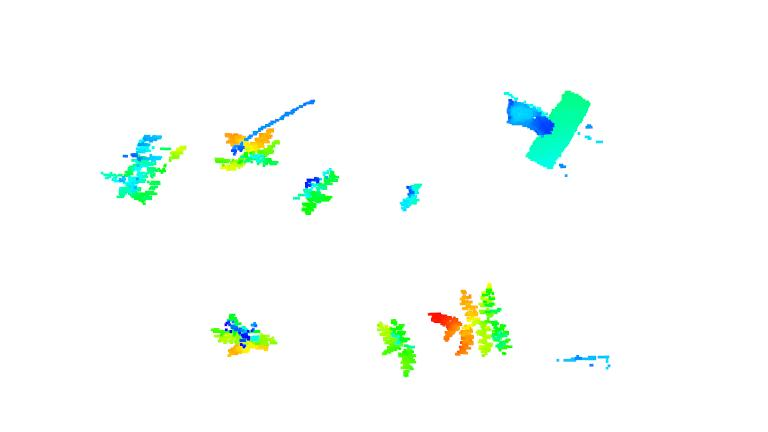chickpea: (97, 128, 191, 207), (429, 284, 516, 361), (208, 309, 281, 362), (216, 125, 284, 174), (373, 317, 422, 379), (289, 168, 348, 217), (392, 178, 423, 212)
